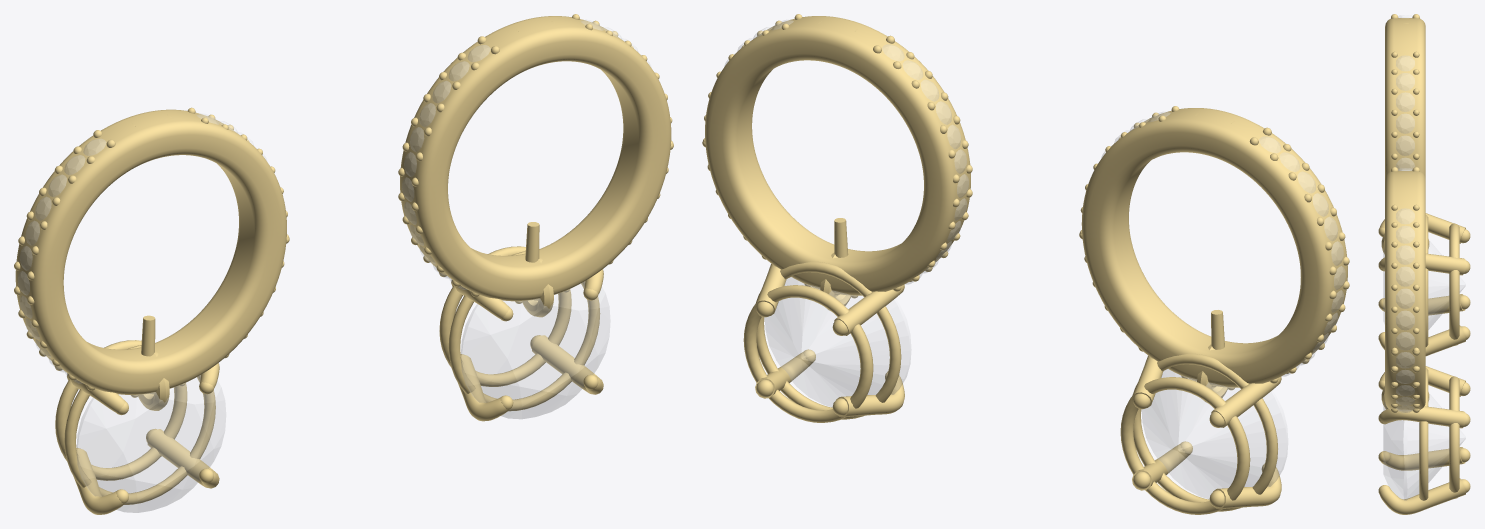
Rendered from solitaire_drop_huggies.glb.
3 renders of one model, left to right at view 1: azimuth 30°, elevation 25°; view 2: azimuth 150°, elevation 25°; view 3: azimuth 270°, elevation 25°, orthographic. The views are drawn at different scales.
Parts seen in each view (by area): view 1: solitaire_drop_huggies; view 2: solitaire_drop_huggies; view 3: solitaire_drop_huggies.
Part boxes in pixels (x1,y1,x2,y2): solitaire_drop_huggies: (14,14,673,514); solitaire_drop_huggies: (702,14,1349,514); solitaire_drop_huggies: (1378,14,1470,514).
Bounding box in the file's own units: 2.69 × 1.56 × 0.4069.
